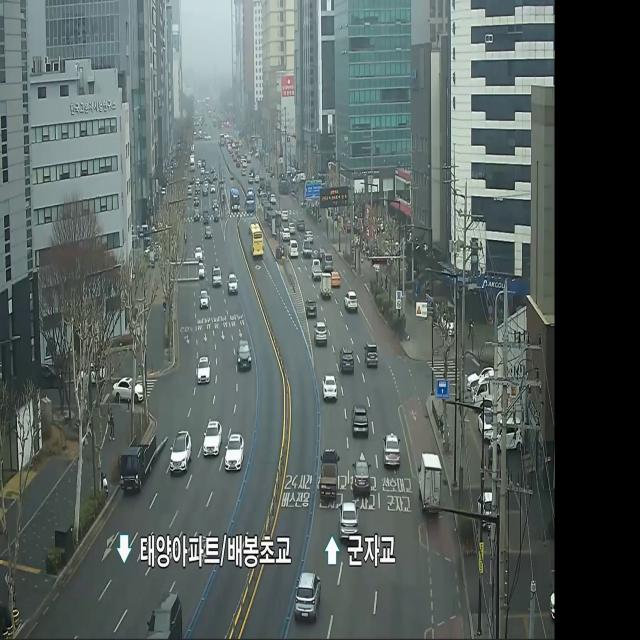car: (248, 221, 265, 259), (231, 184, 240, 214)
motorcycle: (294, 568, 323, 624), (169, 427, 192, 478), (351, 452, 371, 497), (340, 500, 358, 548), (224, 433, 244, 473), (383, 428, 401, 471), (203, 418, 222, 458), (235, 336, 254, 374), (351, 402, 370, 438), (321, 373, 338, 403), (364, 338, 379, 371), (340, 343, 354, 377), (197, 354, 210, 386), (314, 318, 328, 346), (210, 260, 222, 290), (304, 293, 317, 319), (227, 268, 238, 298), (345, 288, 357, 311), (288, 236, 299, 259), (199, 286, 208, 313), (322, 251, 333, 273), (194, 242, 203, 262), (331, 270, 341, 287), (282, 226, 290, 241), (297, 218, 305, 232), (280, 209, 288, 222), (205, 227, 212, 240), (194, 208, 200, 222)
truck: (119, 429, 157, 496), (418, 452, 442, 519), (319, 444, 339, 508), (319, 269, 333, 300), (312, 256, 322, 282), (302, 237, 312, 259)
